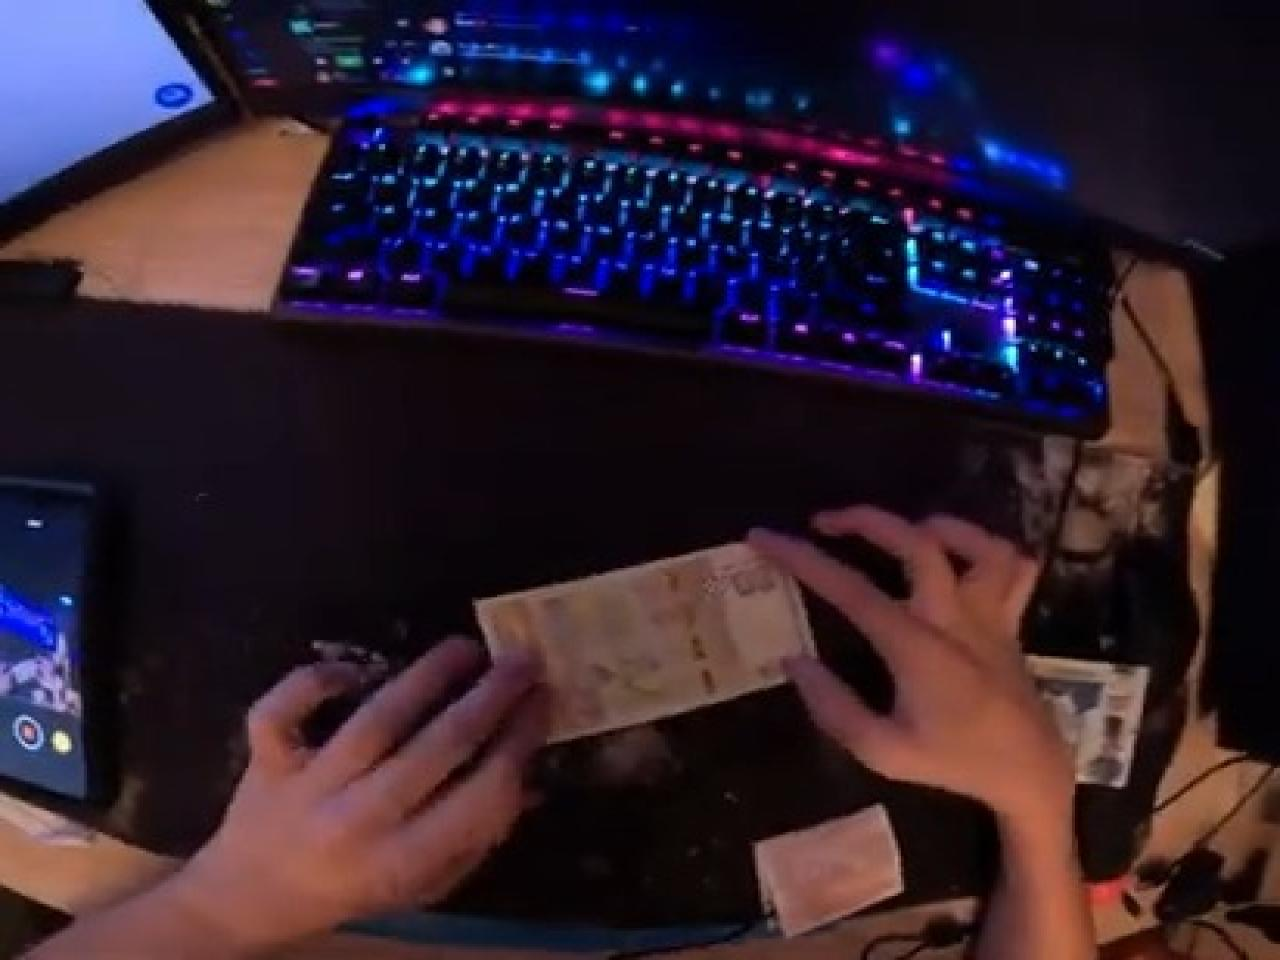50leva: (469, 544, 820, 746)
